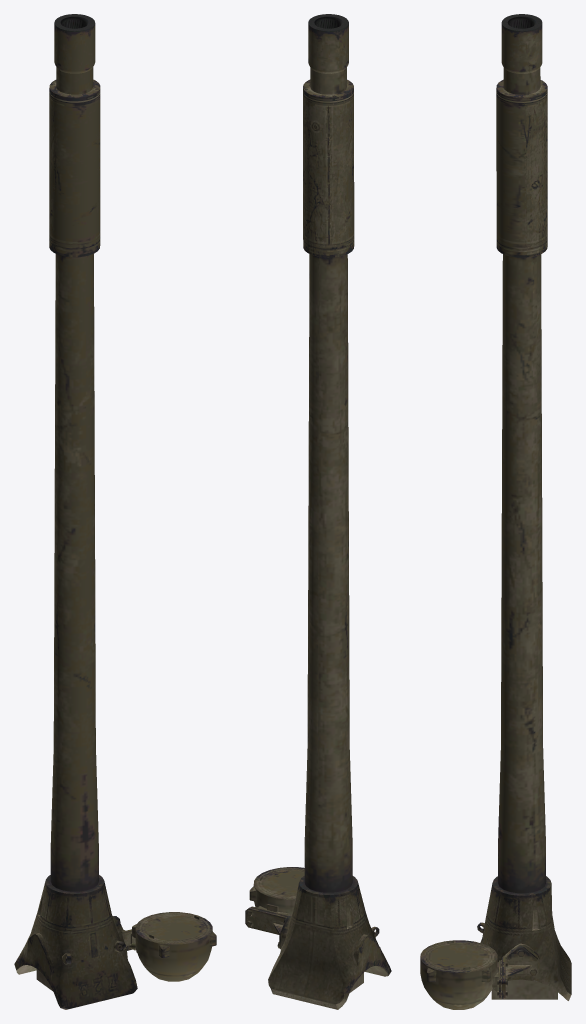
Rendered from Gun_01.glb.
3 views of the same model, side by side, from view 1: azimuth 30°, elevation 25°; view 2: azimuth 150°, elevation 25°; view 3: azimuth 270°, elevation 25° (orthographic).
Parts seen in each view (by area): view 1: set_0_group_0; view 2: set_0_group_0; view 3: set_0_group_0.
Boxes of the visible parts, bbox=[...] form: set_0_group_0: bbox=[14, 14, 216, 1009]; set_0_group_0: bbox=[245, 14, 391, 1009]; set_0_group_0: bbox=[420, 14, 571, 1009].
Size of the model in its own units: 0.7298 by 4.83 by 0.6843.
1 material, 1 textured.
